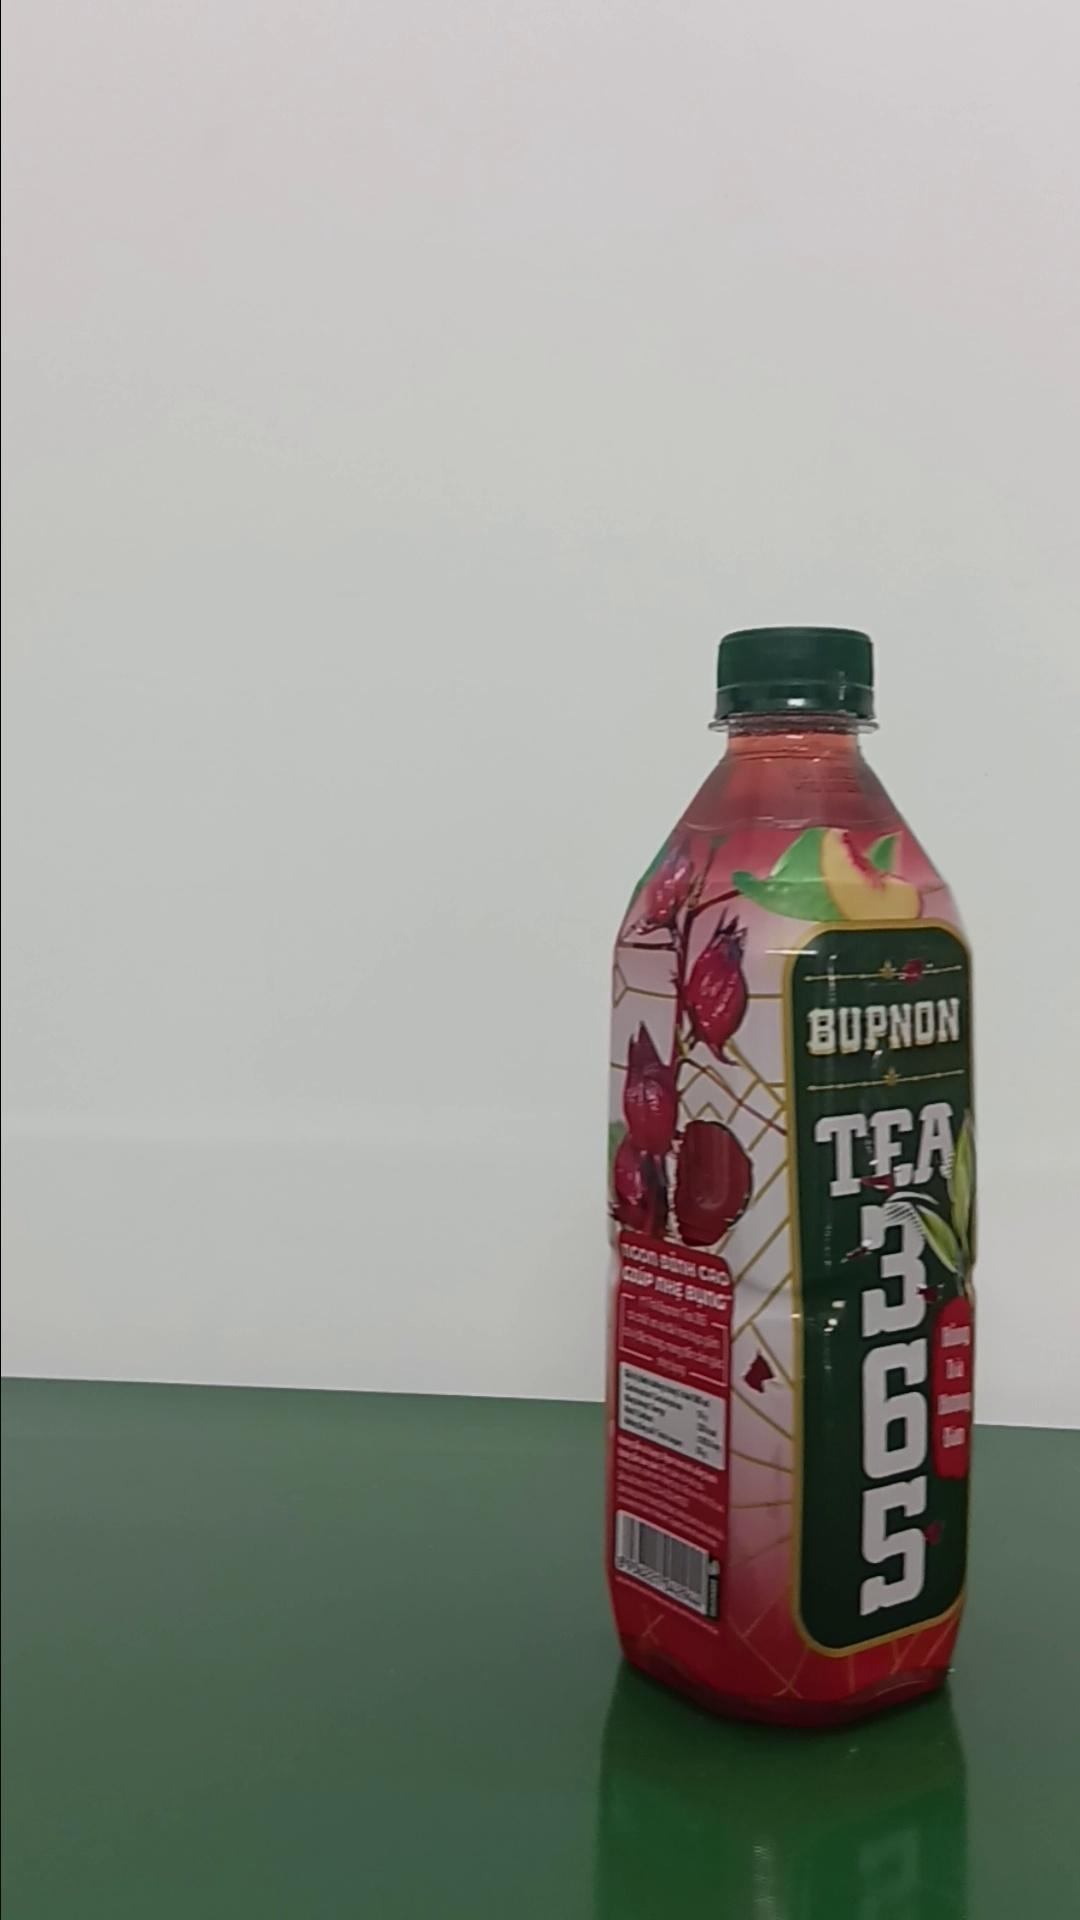loi rach va lap chai: (604, 616, 976, 1738)
